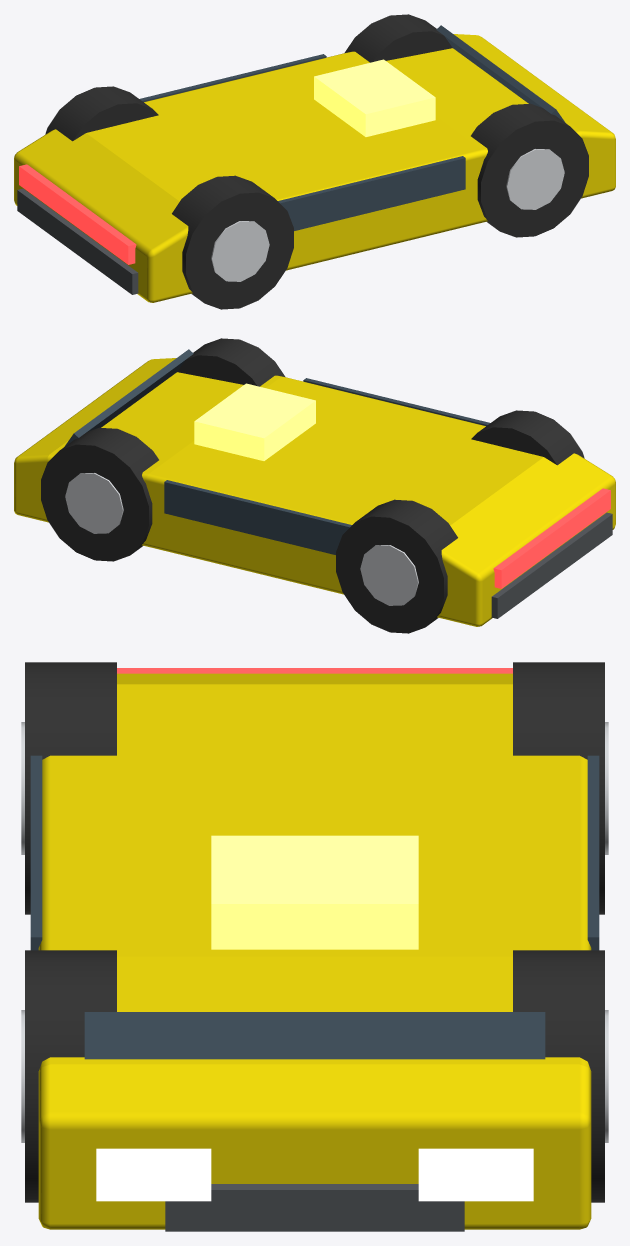
Rendered from taxi2.glb.
The picture shows the model from 3 angles, top to bottom: view 1: azimuth 30°, elevation 25°; view 2: azimuth 150°, elevation 25°; view 3: azimuth 270°, elevation 25°; orthographic projection. The views are drawn at different scales.
Parts seen in each view (by area): view 1: Body, Wheel_RR, Wheel_FR, Cabin, RoofSign, Wheel_RL, Wheel_FL, Trim, Taillights; view 2: Body, Wheel_RL, Wheel_FL, Cabin, RoofSign, Wheel_RR, Wheel_FR, Trim, Taillights; view 3: Body, Cabin, RoofSign, Trim, Headlights, Wheel_FL, Wheel_FR, Wheel_RL, Wheel_RR, Taillights.
Boxes of the visible parts, bbox=[...] form: Body: bbox=[14, 34, 615, 302]; Wheel_RR: bbox=[172, 175, 293, 309]; Wheel_FR: bbox=[471, 103, 588, 237]; Cabin: bbox=[139, 25, 565, 230]; RoofSign: bbox=[314, 59, 435, 136]; Wheel_RL: bbox=[45, 86, 158, 141]; Wheel_FL: bbox=[344, 14, 452, 62]; Trim: bbox=[17, 188, 138, 294]; Taillights: bbox=[19, 164, 136, 264]; Body: bbox=[14, 358, 615, 626]; Wheel_RL: bbox=[336, 499, 457, 633]; Wheel_FL: bbox=[41, 427, 158, 561]; Cabin: bbox=[64, 349, 490, 554]; RoofSign: bbox=[194, 383, 315, 460]; Wheel_RR: bbox=[471, 410, 584, 465]; Wheel_FR: bbox=[177, 338, 285, 386]; Trim: bbox=[491, 512, 612, 618]; Taillights: bbox=[493, 488, 610, 588]; Body: bbox=[38, 673, 591, 1229]; Cabin: bbox=[30, 755, 599, 1059]; RoofSign: bbox=[211, 835, 418, 949]; Trim: bbox=[165, 1184, 464, 1231]; Headlights: bbox=[96, 1148, 533, 1201]; Wheel_FL: bbox=[513, 950, 608, 1202]; Wheel_FR: bbox=[21, 950, 116, 1202]; Wheel_RL: bbox=[513, 662, 608, 914]; Wheel_RR: bbox=[21, 662, 116, 914]; Taillights: bbox=[117, 668, 512, 673].
Size of the model in its own units: 48.4 by 11.3 by 25.5.
